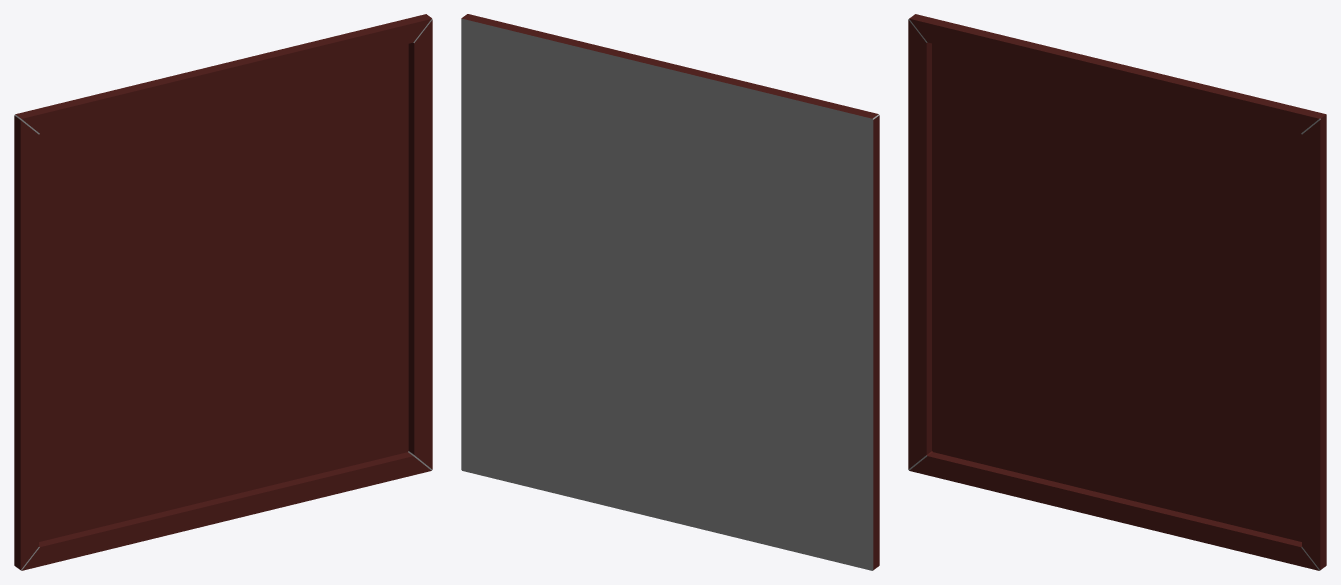
Rendered from Board_Mirror.FBX.
3 views of the same model, side by side, from view 1: azimuth 30°, elevation 25°; view 2: azimuth 150°, elevation 25°; view 3: azimuth 330°, elevation 25° (orthographic).
Parts seen in each view (by area): view 1: Mirror_board; view 2: Mirror_board; view 3: Mirror_board.
Part boxes in pixels (box(x1,y1,x2,y2)): Mirror_board: box(14, 14, 432, 570); Mirror_board: box(461, 14, 879, 570); Mirror_board: box(908, 14, 1326, 570).
Bounding box in the file's own units: 131 × 137 × 3.5.
